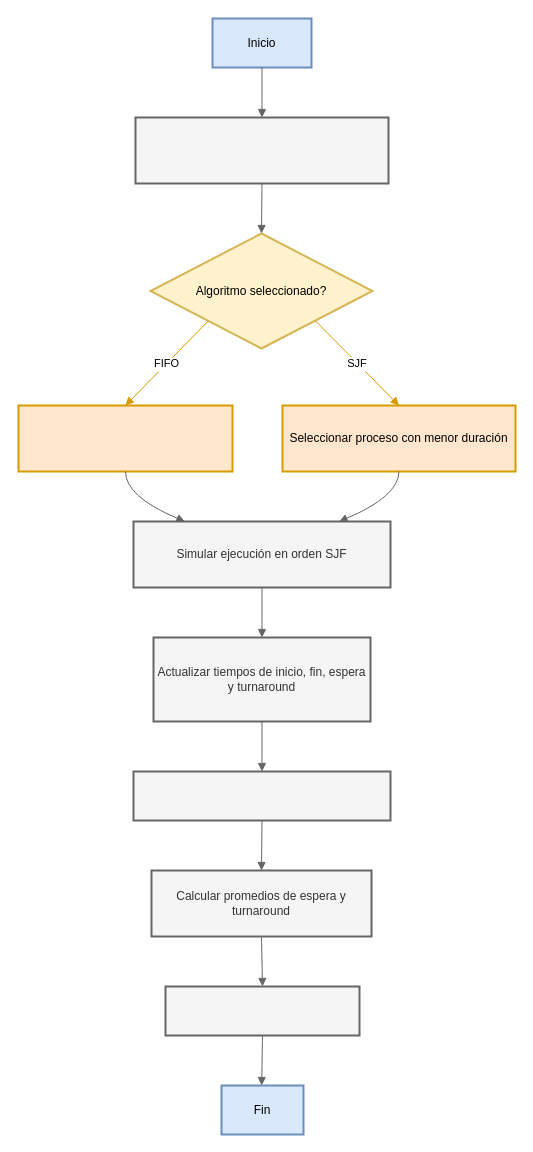
This 533x1152 diagram has some shape labels left out. Here are the shapes that lost their labels. From the top down, the box of each, then its label:
(134, 116, 389, 184): Seleccionar algoritmo FIFO o SJF
(17, 404, 233, 472): Ordenar procesos por tiempo de llegada
(132, 770, 391, 821): Mostrar resultados en tabla
(164, 985, 360, 1036): Mostrar promedios
